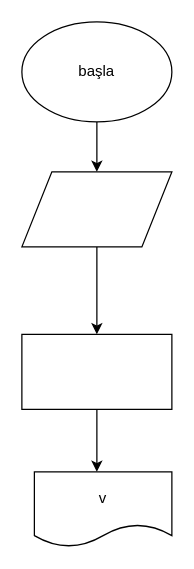
Image size: 194x569. Some labels were removed from this diagram. The centre of each missing label's shape, as x and y in pixels:
"v,i,r" goes at pixel 96 209.
"v=i*r" goes at pixel 96 371.
